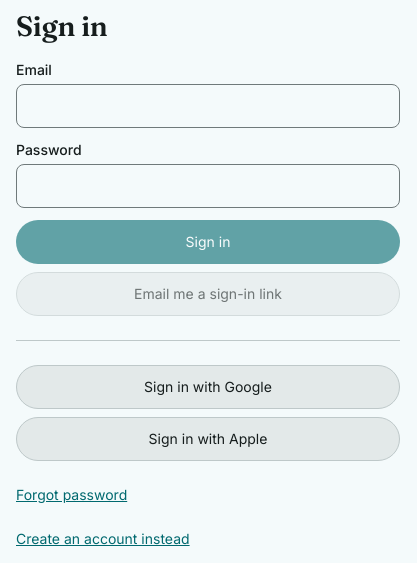
Test: SignInPage (issue #1250) › navigates to the code screen only after the send resolves (issue #1294)
In the field labelled "Email": (208,106) top-left (16, 84), bottom-right (400, 128), type "a@b.co"
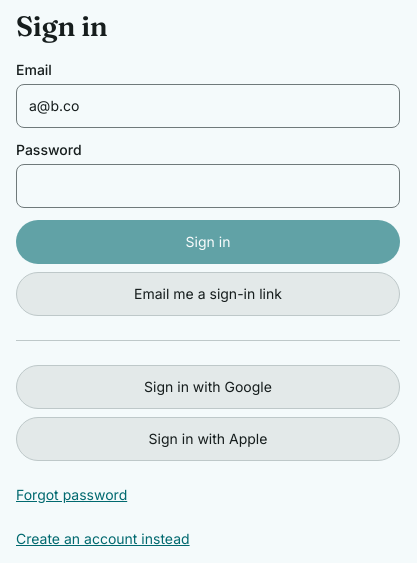
Click the button "Email me a sign-in link": (208,294) top-left (16, 272), bottom-right (400, 316)
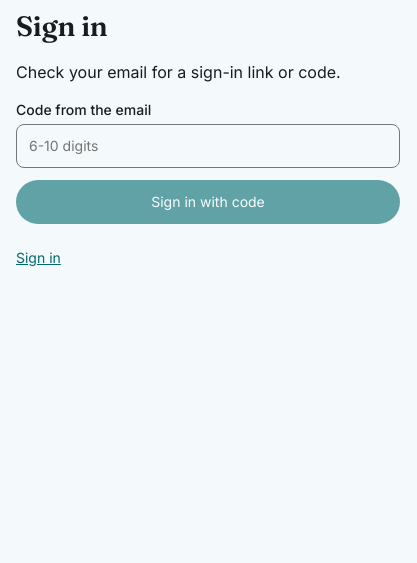
Expected: the field labelled "Code from the email" is shown, top-left (16, 124), bottom-right (400, 168)
